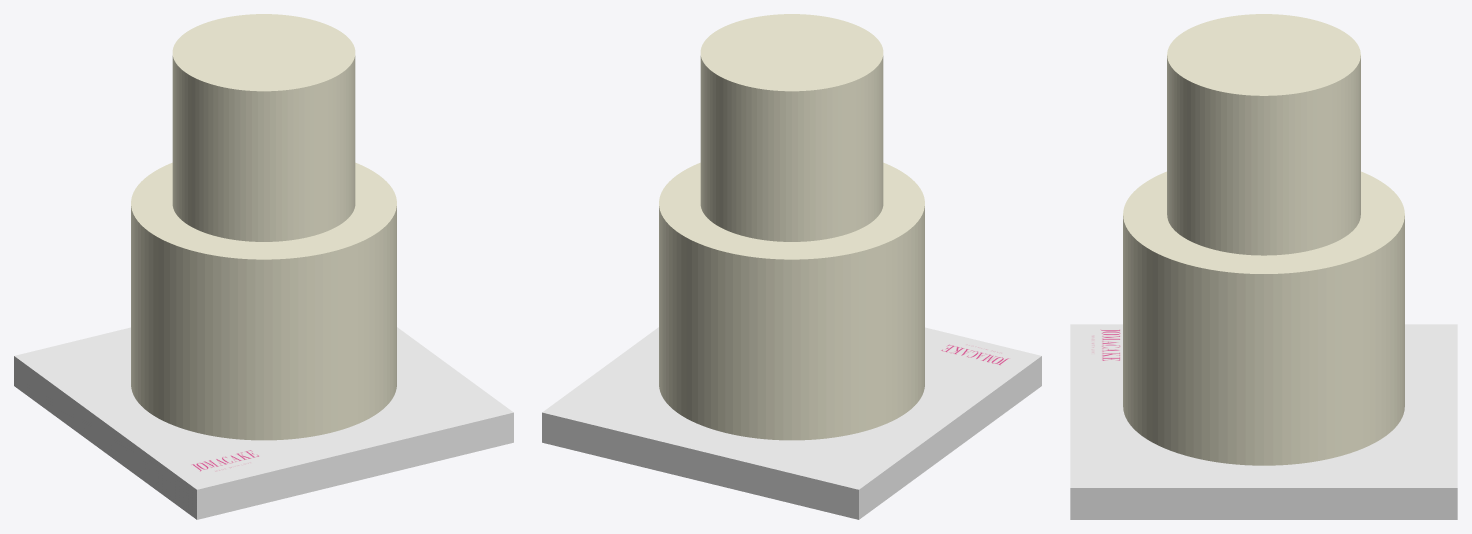
File: cake_tier2_6-4_layers3_v44.glb
3 renders of one model, left to right at view 1: azimuth 30°, elevation 25°; view 2: azimuth 150°, elevation 25°; view 3: azimuth 270°, elevation 25°, orthographic. The views are drawn at different scales.
Visible parts, largest first — view 1: Tier0, Tier1, Board, Logo; view 2: Tier0, Tier1, Board, Logo; view 3: Tier0, Tier1, Board, Logo.
Part boxes in pixels (x1,y1,x2,y2): Tier0: (131, 162, 396, 440); Tier1: (172, 14, 355, 241); Board: (14, 327, 513, 519); Logo: (179, 445, 276, 479); Tier0: (659, 162, 924, 440); Tier1: (700, 14, 883, 241); Board: (542, 327, 1041, 519); Logo: (929, 335, 1026, 370); Tier0: (1123, 171, 1404, 465); Tier1: (1167, 14, 1360, 255); Board: (1070, 324, 1457, 519); Logo: (1082, 325, 1122, 364).
Bounding box in the file's own units: 0.22 × 0.24 × 0.22.
